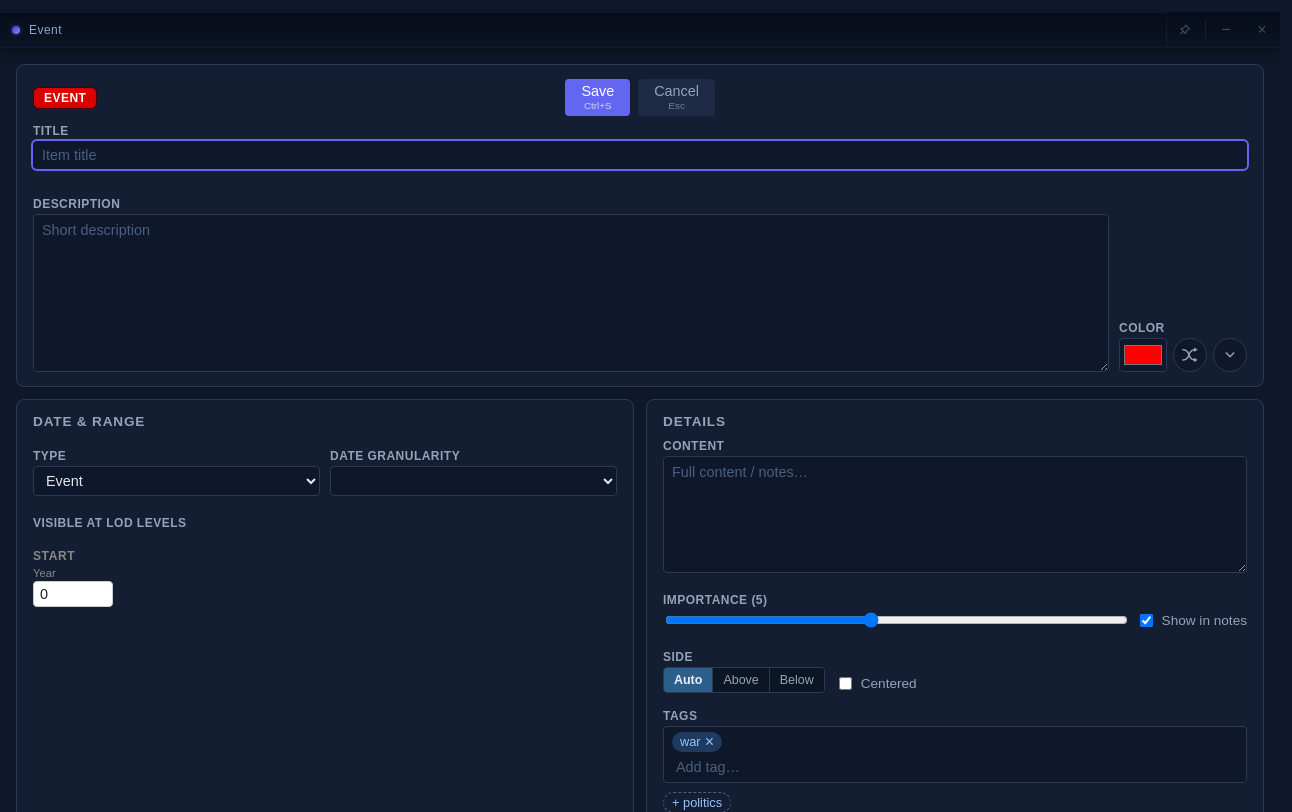
Scenario: EditItem page › top tags render as click-to-add chips, hiding ones already on the item
This screenshot has width=1292, height=812.
Click the button with class "chip-suggest": (697, 802) [663,792,731,811]
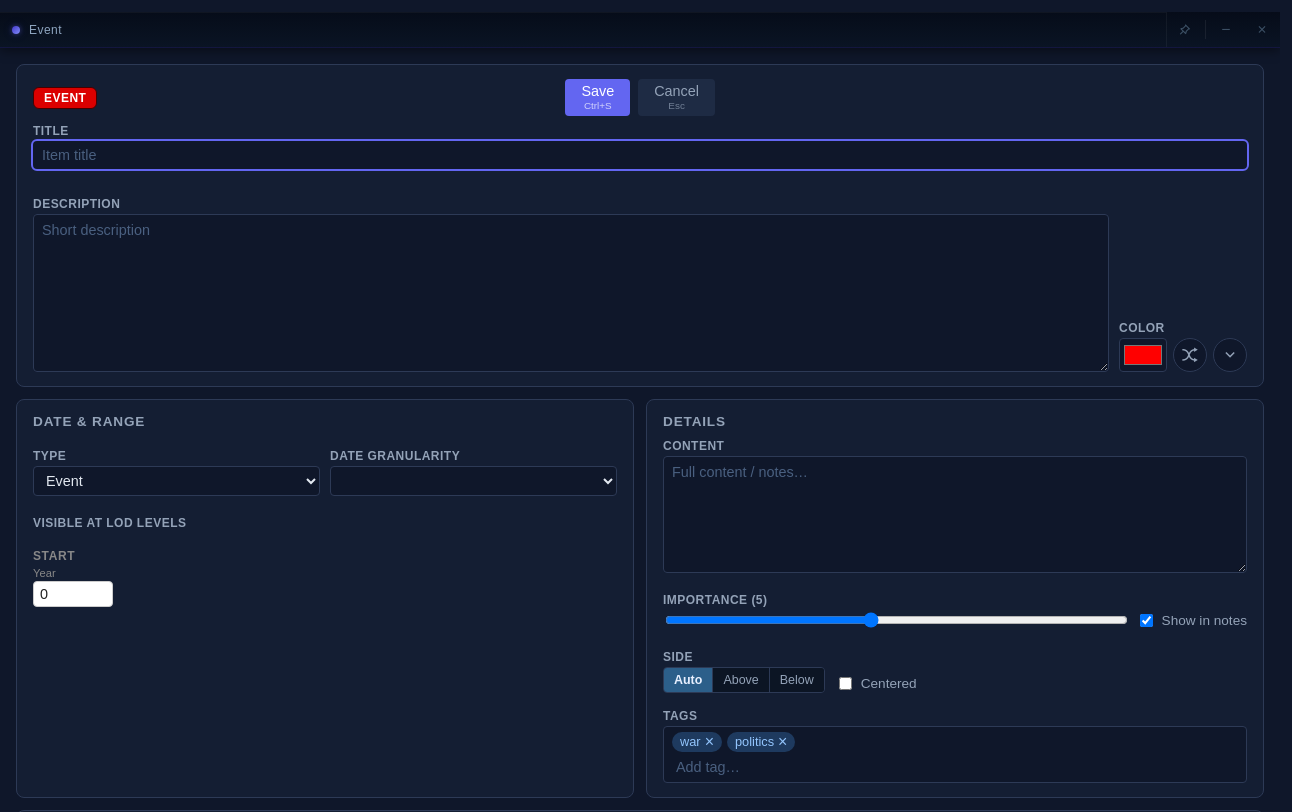
Expected: no buttons with class "chip-suggest" are shown
Expected: the elements with class "chip" read "war ×", "politics ×", in this order, [672,732,722,752]; [727,732,796,752]
